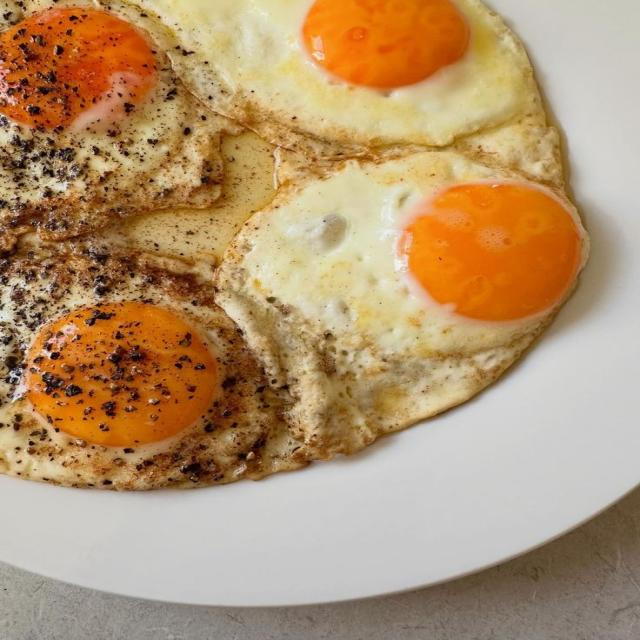fryed egg: (218, 151, 587, 459), (0, 246, 303, 489), (143, 0, 539, 155), (0, 0, 224, 251)
